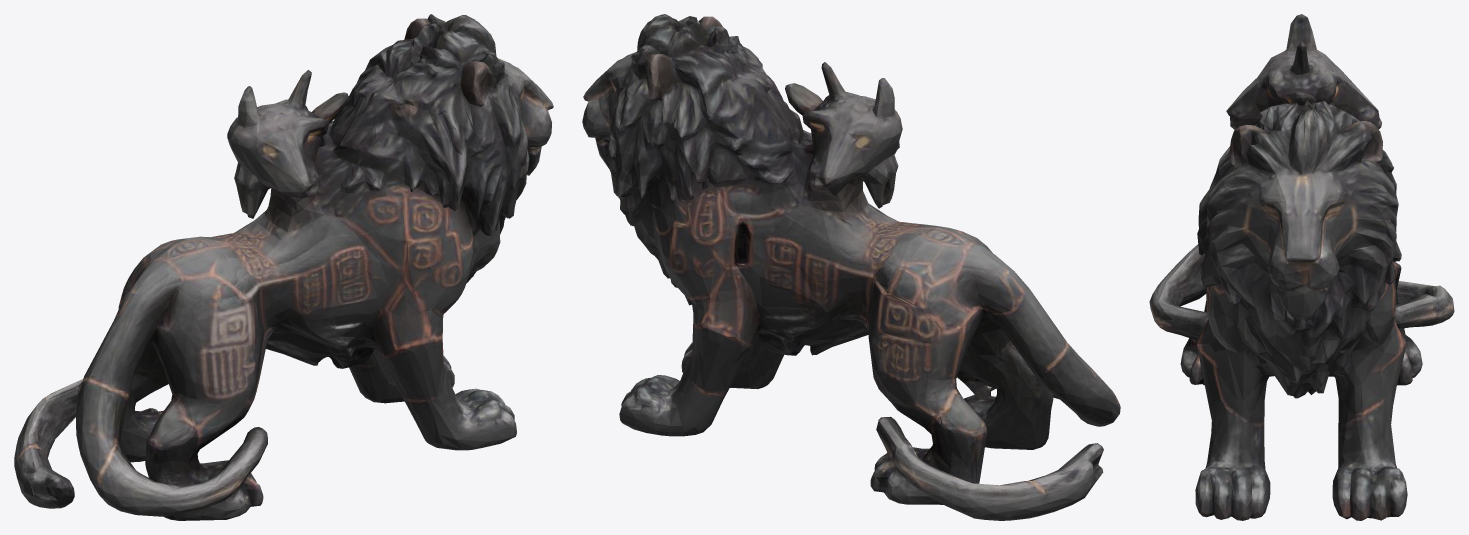
File: obsidianChimera.glb
The picture shows the model from 3 angles, left to right: view 1: azimuth 30°, elevation 25°; view 2: azimuth 150°, elevation 25°; view 3: azimuth 270°, elevation 25°; orthographic projection. The views are drawn at different scales.
Parts seen in each view (by area): view 1: world; view 2: world; view 3: world.
Part boxes in pixels (left/top/right/bottom): world: left=14, top=14, right=553, bottom=520; world: left=582, top=14, right=1120, bottom=520; world: left=1149, top=14, right=1454, bottom=520.
Size of the model in its own units: 0.9998 by 0.7227 by 0.4846.
Materials: 1 (1 with a texture image).
